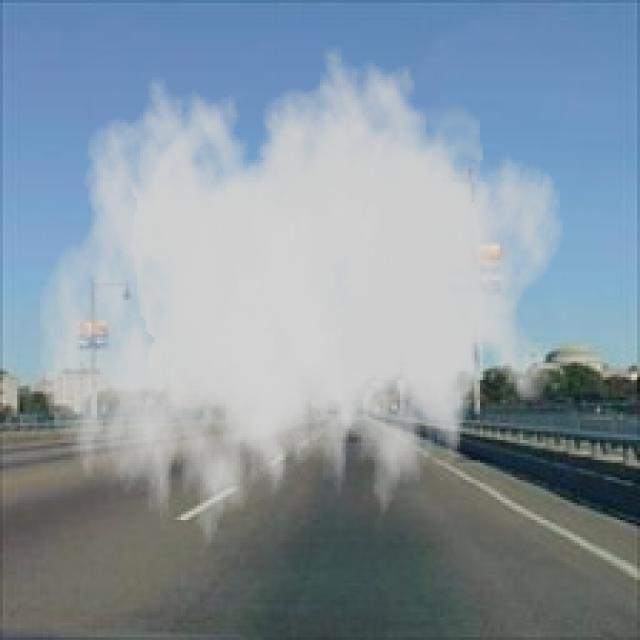smoke: (37, 37, 566, 569)
